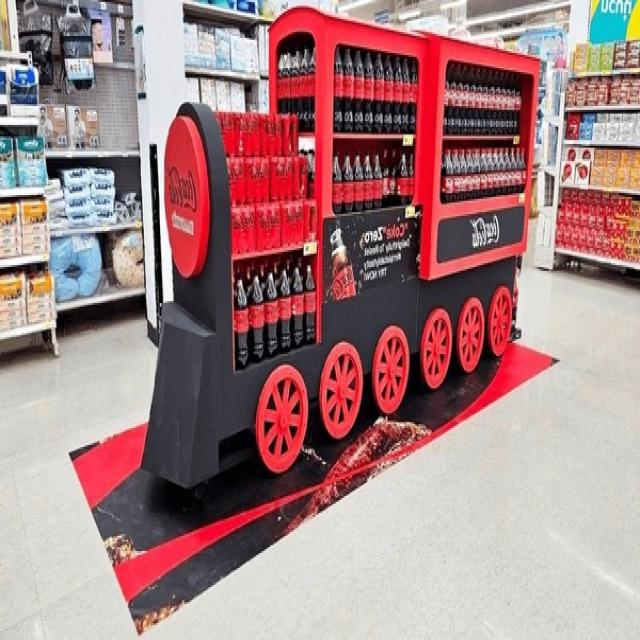coca cola: (157, 176, 207, 224), (454, 209, 507, 251)
